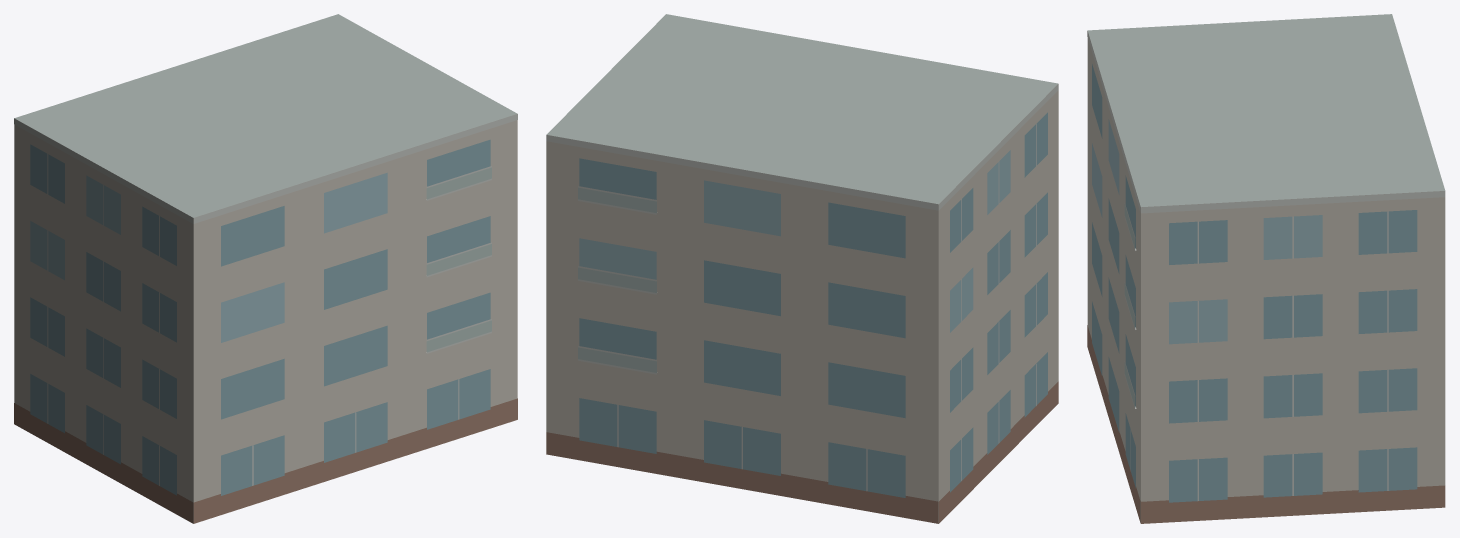
The model's file is residential-48aa2870-e1c5-4c0f-b9fb-e788ab48475d.glb.
3 renders of one model, left to right at view 1: azimuth 30°, elevation 25°; view 2: azimuth 150°, elevation 25°; view 3: azimuth 270°, elevation 25°, orthographic. The views are drawn at different scales.
Visible parts, largest first — view 1: residential-48aa2870-e1c5-4c0f-b9fb-e788ab48475d.tmp; view 2: residential-48aa2870-e1c5-4c0f-b9fb-e788ab48475d.tmp; view 3: residential-48aa2870-e1c5-4c0f-b9fb-e788ab48475d.tmp.
Boxes of the visible parts, x1,y1,x2,y2 form: residential-48aa2870-e1c5-4c0f-b9fb-e788ab48475d.tmp: (14, 14, 517, 523); residential-48aa2870-e1c5-4c0f-b9fb-e788ab48475d.tmp: (546, 14, 1058, 523); residential-48aa2870-e1c5-4c0f-b9fb-e788ab48475d.tmp: (1087, 14, 1445, 523).
Bounding box in the file's own units: 15.97 × 12.2 × 12.5.
